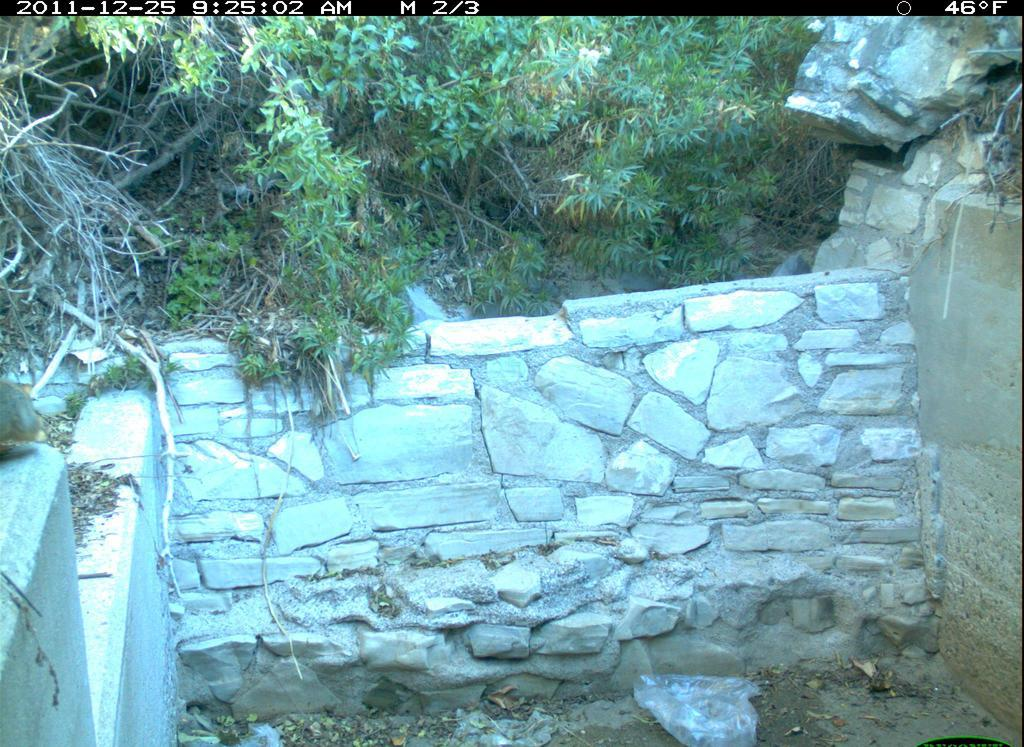squirrel: (3, 368, 53, 457)
